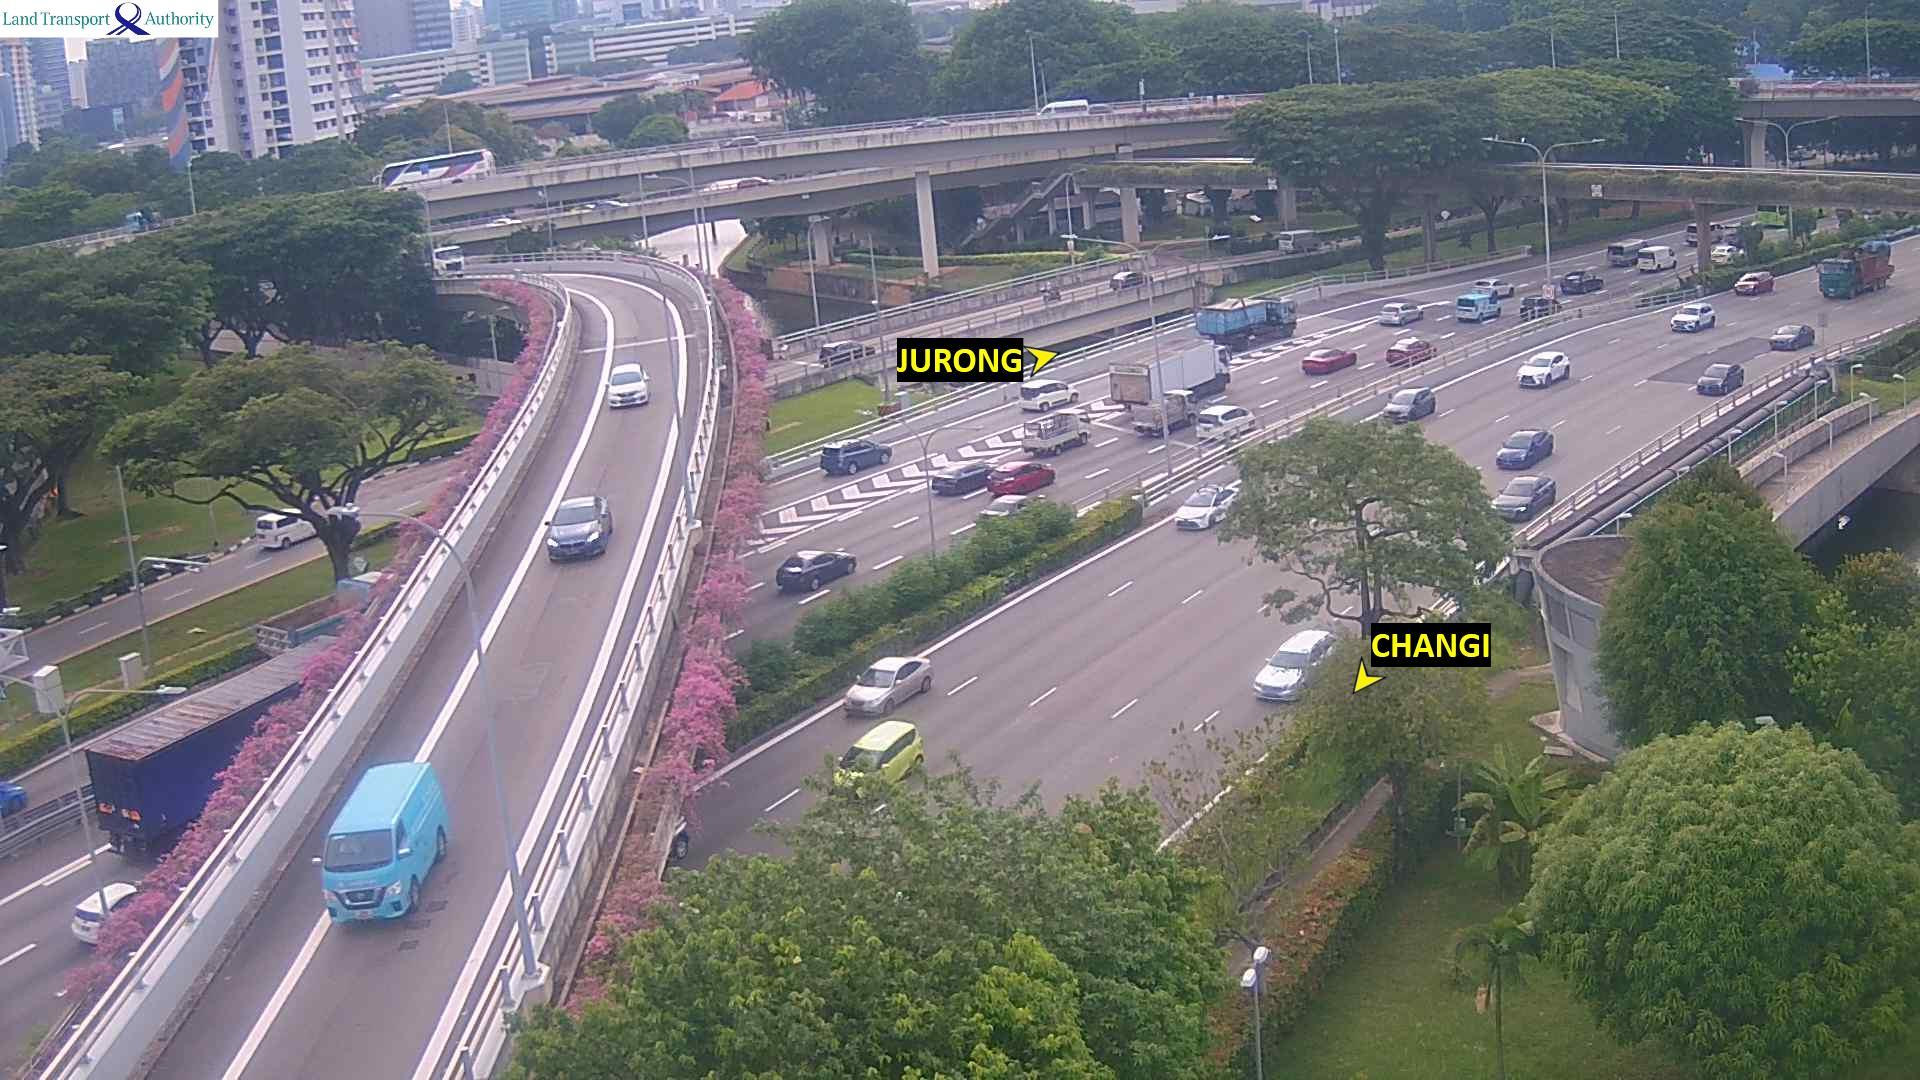bus: (375, 146, 495, 193), (1758, 203, 1825, 227)
cars: (313, 760, 450, 924), (832, 719, 924, 794), (1251, 626, 1337, 702), (841, 654, 934, 717), (69, 880, 145, 947), (545, 493, 612, 560), (775, 547, 856, 592), (1174, 483, 1238, 530), (1489, 473, 1555, 520), (819, 436, 891, 475), (985, 459, 1055, 496), (253, 512, 316, 550), (1494, 429, 1553, 468), (1193, 404, 1255, 440), (928, 462, 992, 496), (976, 493, 1044, 524), (607, 361, 650, 407), (1516, 349, 1571, 386), (1018, 378, 1077, 411), (1382, 386, 1435, 423), (137, 554, 203, 582), (816, 338, 876, 367), (1385, 334, 1436, 367), (1695, 361, 1742, 396), (1300, 345, 1356, 375), (1455, 289, 1501, 323), (1669, 299, 1716, 332), (1768, 322, 1815, 349), (1279, 227, 1327, 253), (1035, 100, 1096, 120), (1559, 266, 1604, 293), (1518, 293, 1560, 319), (1636, 244, 1676, 272), (1605, 237, 1644, 265), (1378, 301, 1423, 324), (1733, 269, 1774, 294), (0, 779, 26, 818), (1131, 407, 1166, 436), (738, 171, 779, 195), (670, 814, 690, 860), (137, 556, 173, 582), (1684, 222, 1721, 245), (721, 131, 762, 152), (591, 198, 628, 220), (1474, 276, 1513, 297), (1709, 243, 1745, 264), (915, 117, 956, 135), (1109, 269, 1139, 291), (485, 212, 524, 227), (123, 210, 146, 232)
motorcycle: (1038, 276, 1063, 306)
trucks: (82, 645, 351, 858), (1106, 338, 1232, 436), (1193, 295, 1298, 345), (1815, 237, 1895, 298), (1021, 410, 1091, 454), (431, 243, 464, 277)
